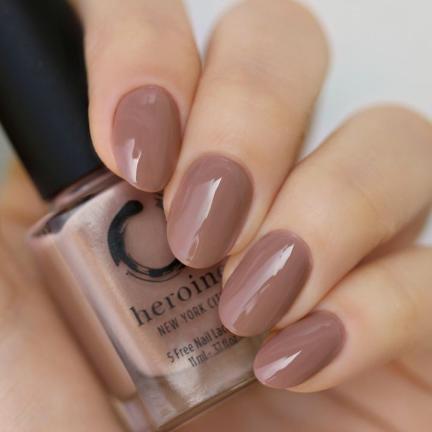Nail: (219, 230, 313, 336), (167, 154, 253, 268), (112, 85, 181, 192), (254, 310, 346, 388)
